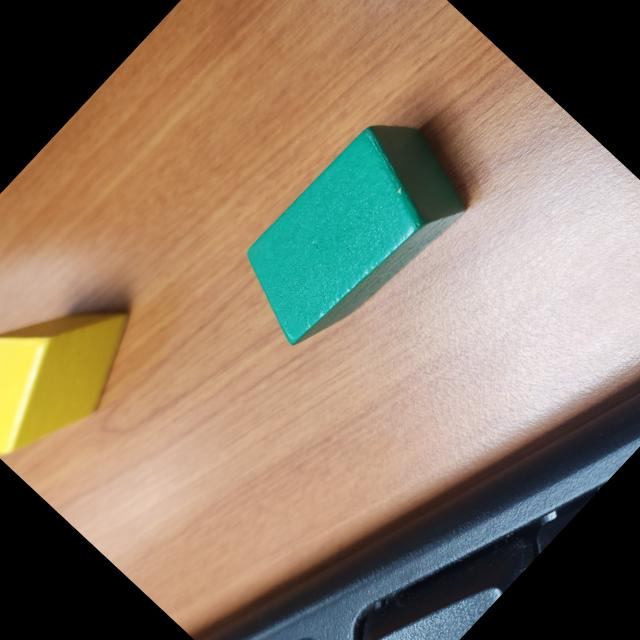green: (221, 100, 484, 368)
yellow: (0, 251, 160, 485)
